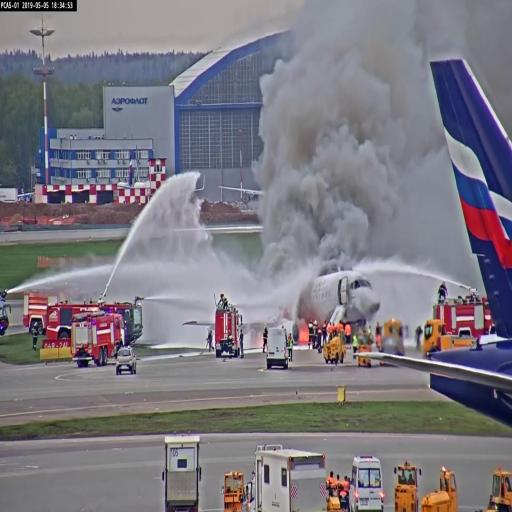smoke: (247, 0, 404, 224)
